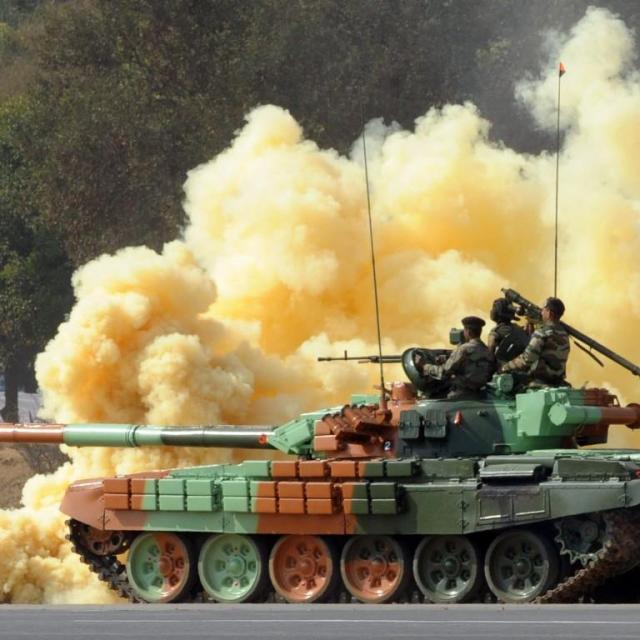Tanks: (49, 310, 633, 600)
